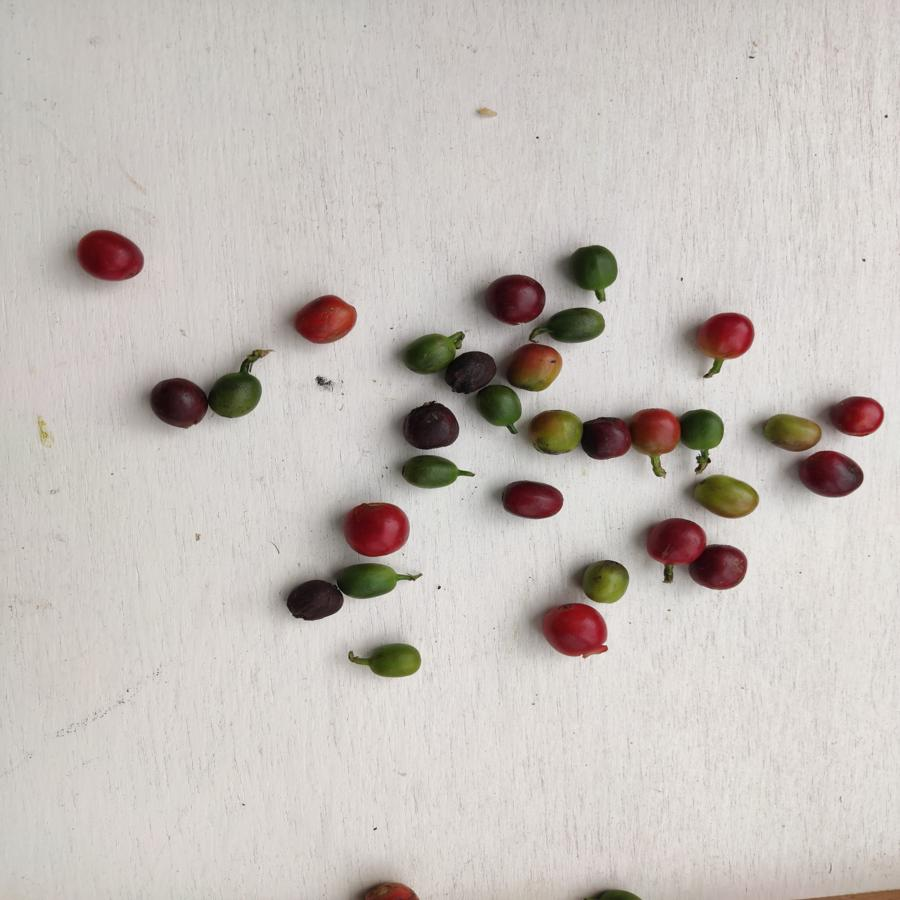Inmaduro: (568, 240, 622, 297), (209, 371, 269, 422), (337, 558, 399, 605), (397, 454, 463, 496), (362, 640, 426, 683), (475, 385, 520, 442), (546, 307, 613, 343), (398, 330, 455, 371), (681, 404, 724, 456)
Maduro: (73, 227, 149, 285), (541, 602, 612, 662), (342, 502, 414, 556), (642, 515, 707, 566), (292, 293, 354, 345), (696, 309, 756, 359), (824, 391, 885, 438), (631, 406, 680, 459)
Pinton: (689, 470, 758, 518), (503, 344, 568, 389), (763, 408, 821, 454), (526, 407, 582, 454), (582, 557, 629, 605)
Sobremaduro: (147, 373, 209, 431), (484, 272, 550, 325), (399, 398, 464, 451), (496, 479, 569, 523), (799, 450, 865, 498), (285, 577, 342, 625), (692, 544, 751, 589), (584, 413, 632, 459), (448, 349, 495, 389)
